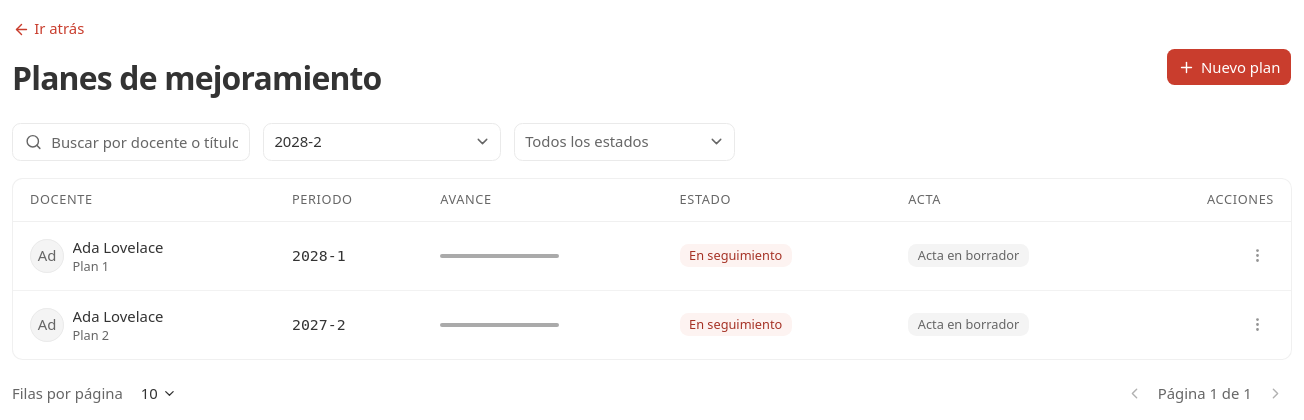
Scenario: PlansPage · eliminar un plan › ofrece eliminar desde la fila
Click the button named "Acciones" in the row of "Plan 1": (1257, 256) 1240,239 -> 1274,273
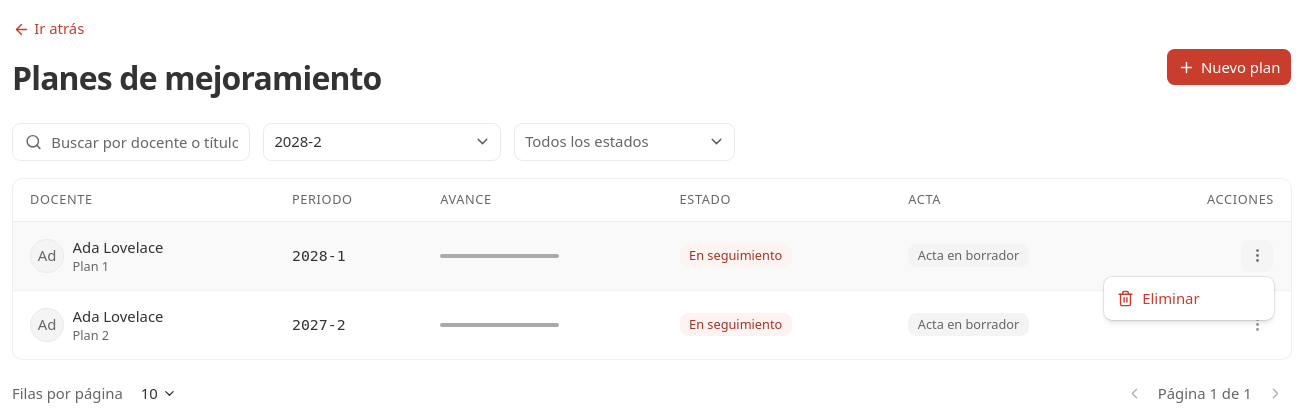
Check: the menu item "Eliminar" is shown, box 1117,288 -> 1200,308
